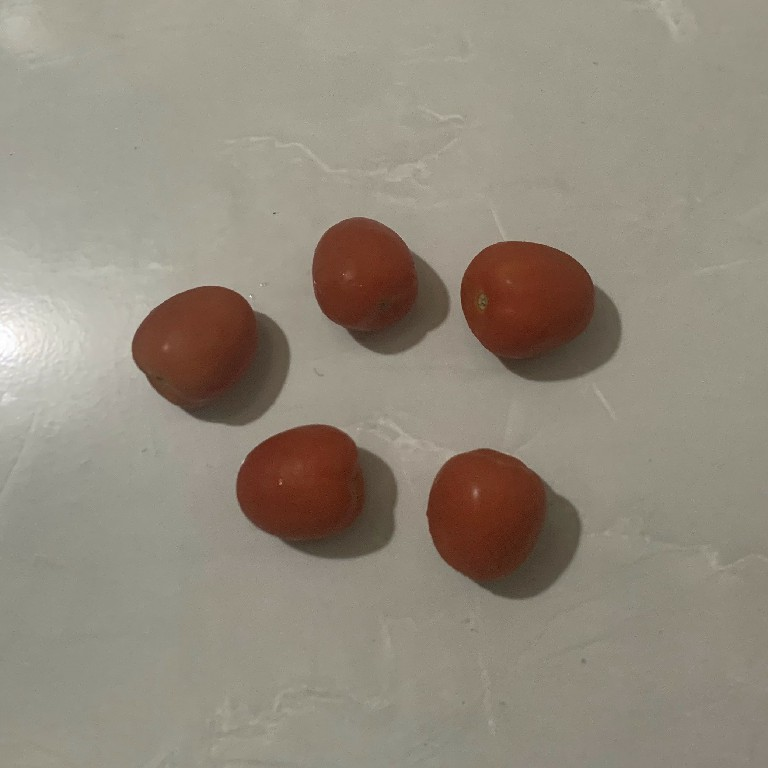OK: (419, 447, 551, 587), (462, 228, 594, 364), (133, 278, 260, 410), (229, 425, 370, 542), (304, 213, 419, 332)
